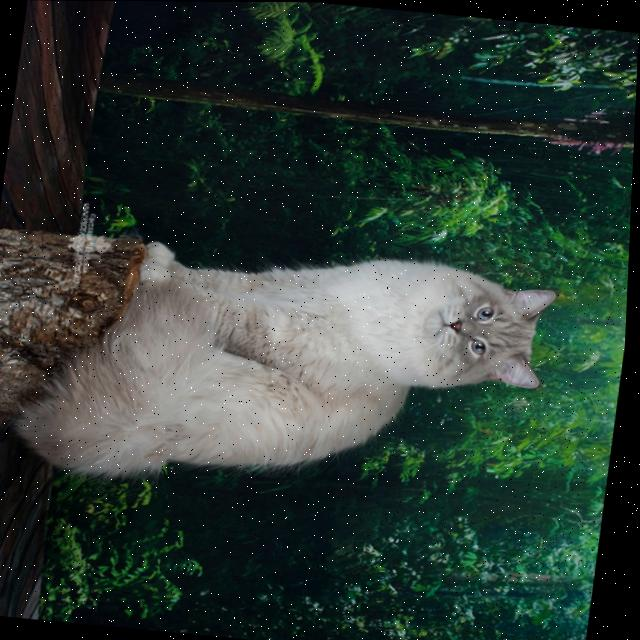Neva Masquerade: (9, 220, 569, 517)
